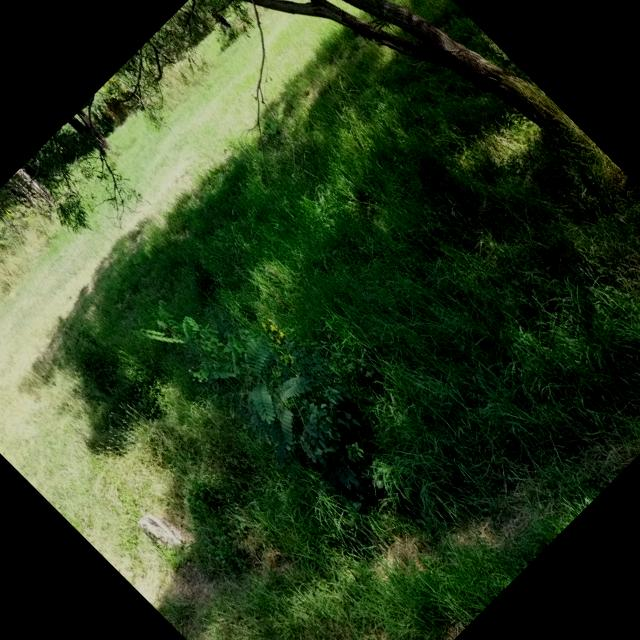Mysore-Thorn-Weed: (126, 259, 392, 524)
